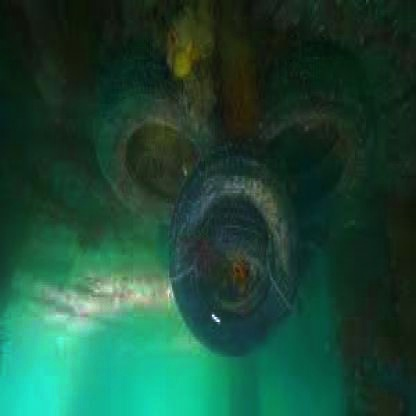tire: (99, 79, 230, 255), (247, 52, 362, 240), (186, 156, 301, 339)
